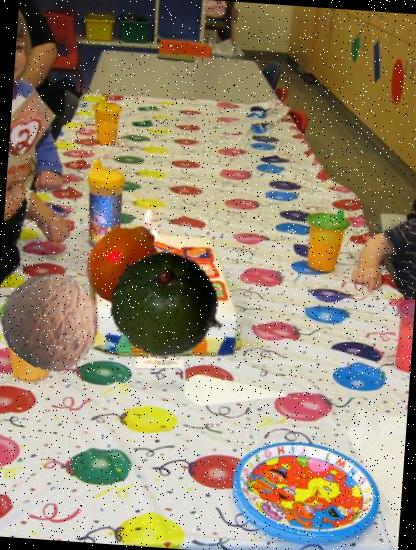Avocado: (108, 246, 228, 366)
Tangelo: (80, 219, 170, 308)
Walnut: (0, 267, 104, 372)
